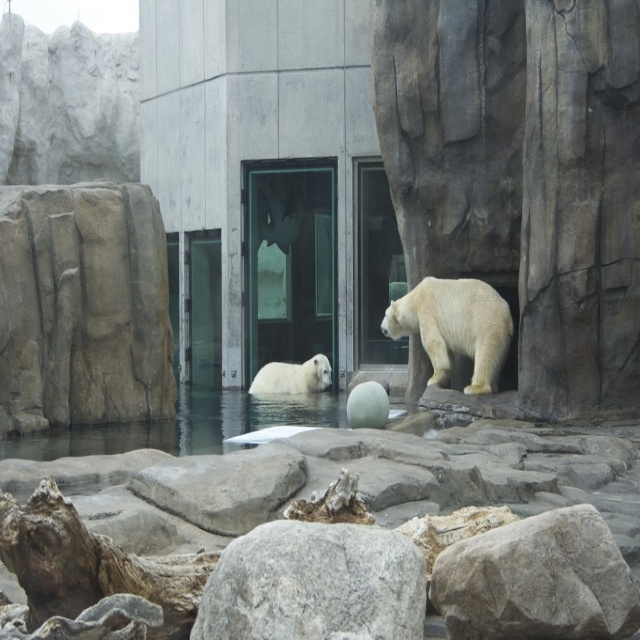Polar bear: (381, 277, 516, 397), (247, 356, 335, 396)
